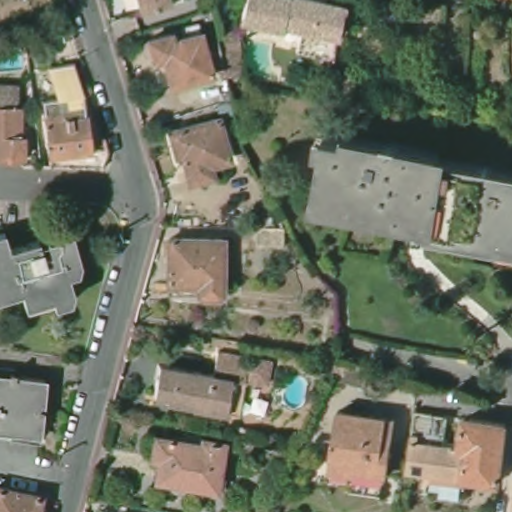pool: (241, 36, 276, 77), (283, 372, 309, 408), (1, 50, 27, 73)
